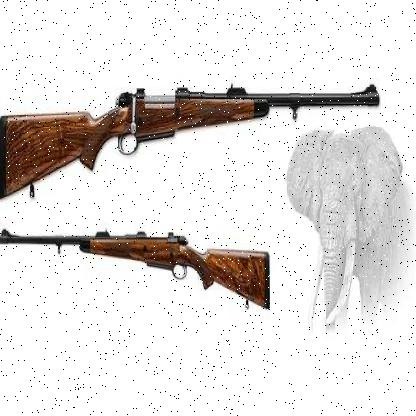rifle: (0, 46, 387, 213), (0, 188, 276, 343)
